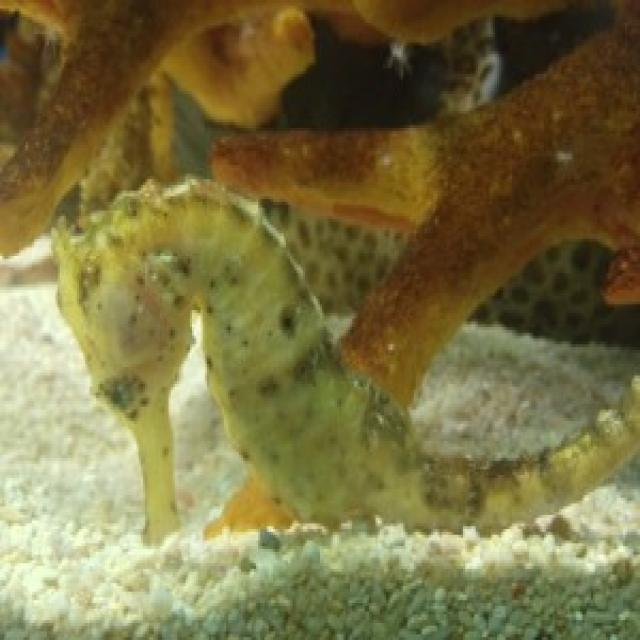Seahorse: (32, 168, 640, 572)
